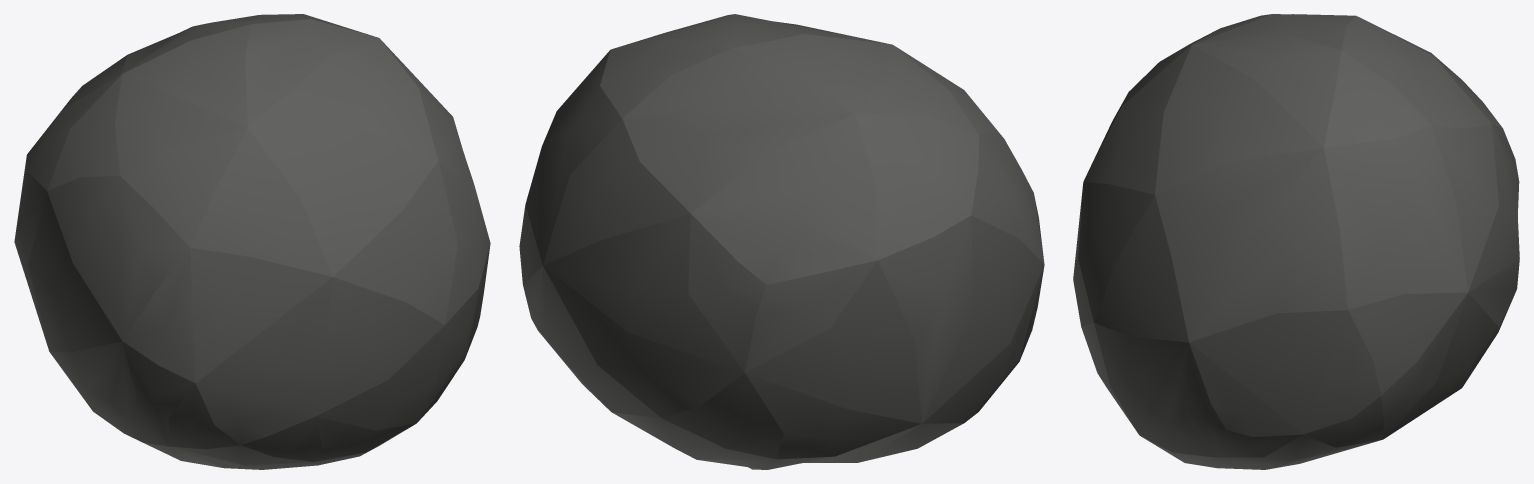
Rendered from boulder.glb.
3 views of the same model, side by side, from view 1: azimuth 30°, elevation 25°; view 2: azimuth 150°, elevation 25°; view 3: azimuth 270°, elevation 25° (orthographic). The views are drawn at different scales.
Visible parts, largest first — view 1: SM_Env_Rock_01; view 2: SM_Env_Rock_01; view 3: SM_Env_Rock_01.
Part boxes in pixels (x1,y1,x2,y2): SM_Env_Rock_01: (14, 14, 490, 469); SM_Env_Rock_01: (519, 14, 1044, 469); SM_Env_Rock_01: (1073, 14, 1519, 469).
Bounding box in the file's own units: 2 × 1.81 × 1.84.
1 material, 1 textured.
